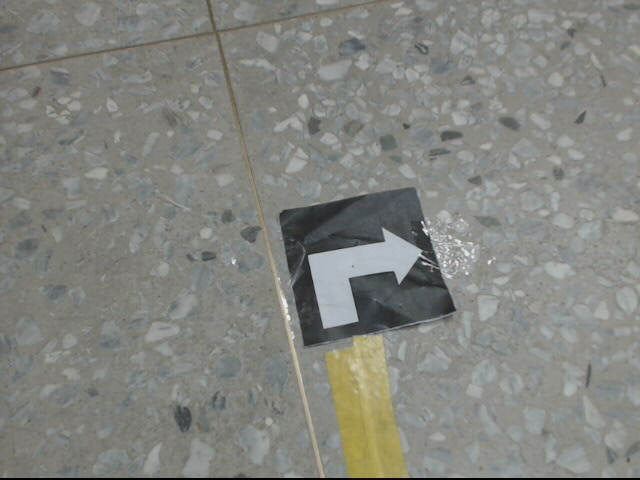right: (275, 185, 461, 349)
